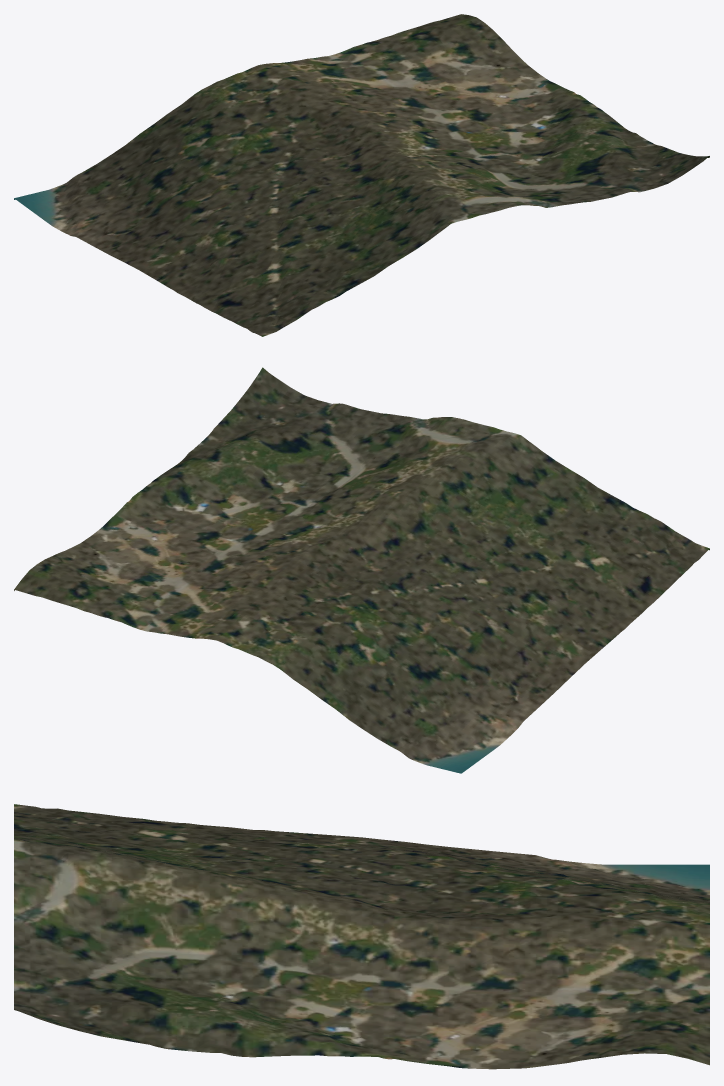
3 views of the same model, one above another, from view 1: azimuth 30°, elevation 25°; view 2: azimuth 150°, elevation 25°; view 3: azimuth 270°, elevation 25° (orthographic). The views are drawn at different scales.
Bounding box in the file's own units: 250 × 62.57 × 241.
1 material, 1 textured.
